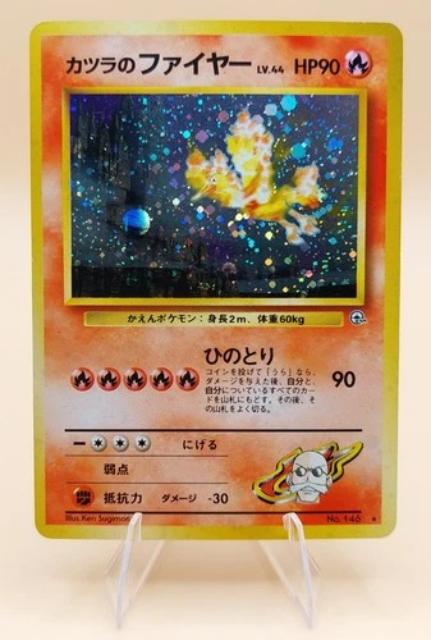Card: (20, 15, 409, 544)
Name: (60, 45, 256, 81)
